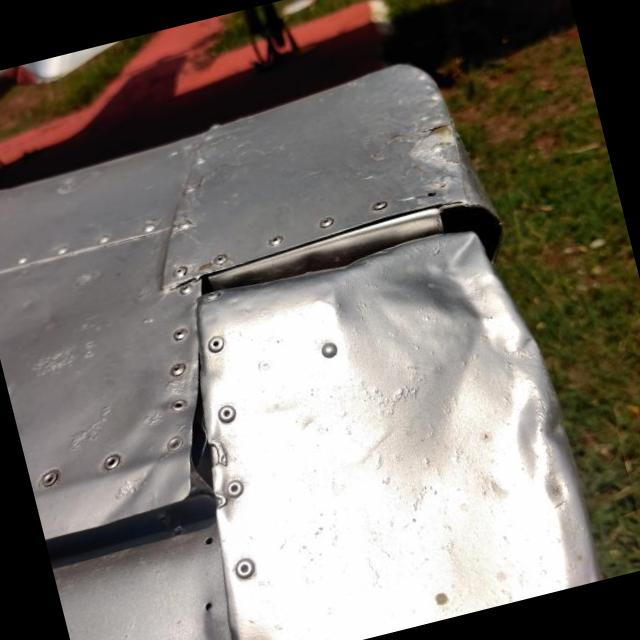Dent: (333, 232, 540, 398), (460, 353, 599, 586)
